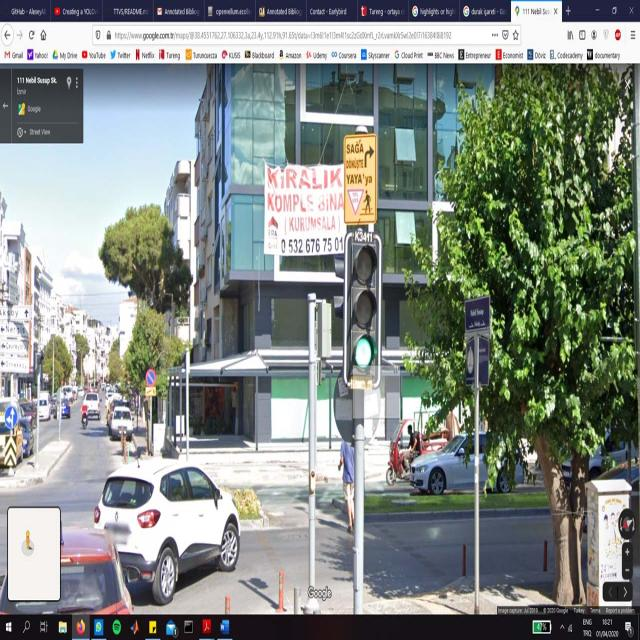parkyasak: (146, 369, 156, 386)
yesil: (347, 235, 376, 378)
